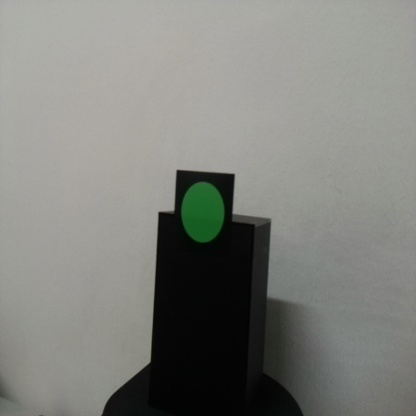id_5: (177, 172, 233, 259)
